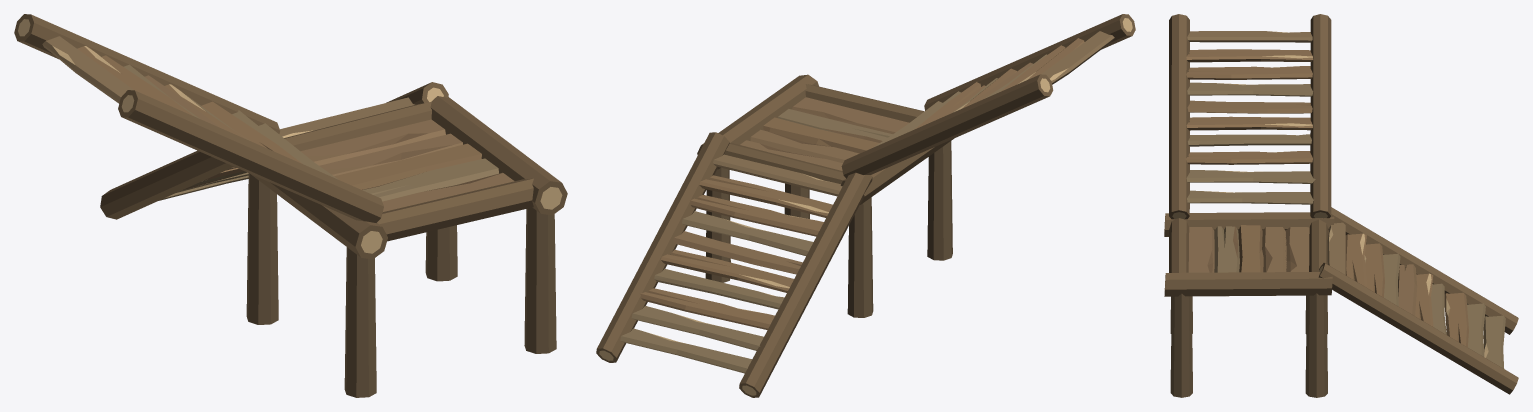
The model's file is rpgpp_ag_wall_platform_stairs_02b_4m.fbx.
The picture shows the model from 3 angles, left to right: view 1: azimuth 30°, elevation 25°; view 2: azimuth 150°, elevation 25°; view 3: azimuth 270°, elevation 25°; orthographic projection. The views are drawn at different scales.
Visible parts, largest first — view 1: rpgpp_ag_wall_platform_stairs_02b_4m; view 2: rpgpp_ag_wall_platform_stairs_02b_4m; view 3: rpgpp_ag_wall_platform_stairs_02b_4m.
Boxes of the visible parts, x1,y1,x2,y2 form: rpgpp_ag_wall_platform_stairs_02b_4m: (14,14,567,397); rpgpp_ag_wall_platform_stairs_02b_4m: (596,14,1135,397); rpgpp_ag_wall_platform_stairs_02b_4m: (1164,14,1518,397).
Bounding box in the file's own units: 5.34 × 4.22 × 5.52.
